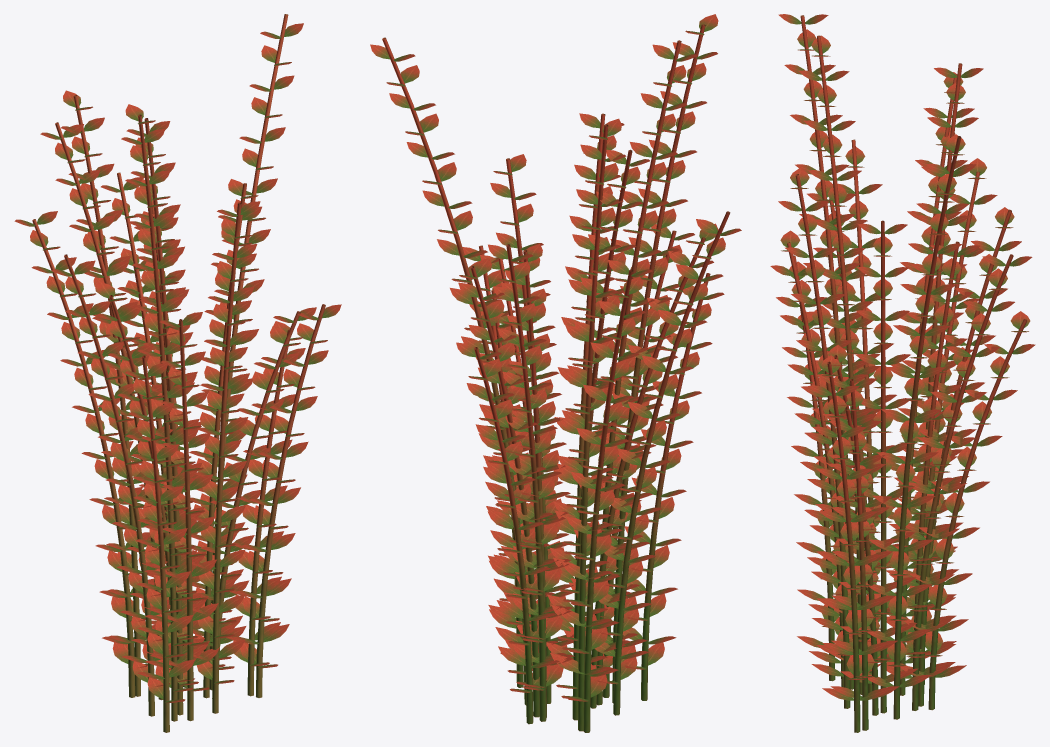
The model's file is ludwigia.glb.
3 views of the same model, side by side, from view 1: azimuth 30°, elevation 25°; view 2: azimuth 150°, elevation 25°; view 3: azimuth 270°, elevation 25° (orthographic). The views are drawn at different scales.
Parts seen in each view (by area): view 1: SwayLudwigia0, SwayLudwigia1; view 2: SwayLudwigia1, SwayLudwigia0; view 3: SwayLudwigia0, SwayLudwigia1.
Boxes of the visible parts, box(x1,y1,x2,y2) form: SwayLudwigia0: box(14, 14, 341, 721); SwayLudwigia1: box(40, 90, 261, 732); SwayLudwigia1: box(458, 14, 741, 731); SwayLudwigia0: box(370, 37, 697, 732); SwayLudwigia0: box(770, 35, 1035, 732); SwayLudwigia1: box(776, 14, 1032, 713).
Size of the model in its own units: 1.24 by 2.49 by 0.9318.
Materials: 1 (1 with a texture image).
